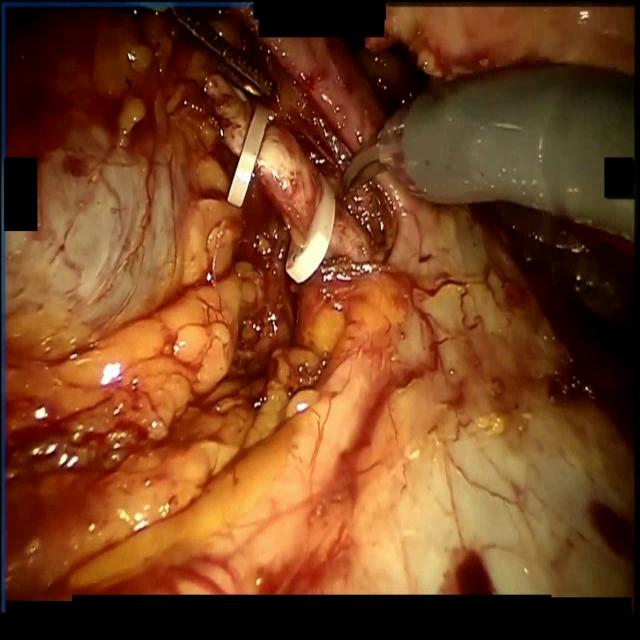surgical-area: (4, 5, 636, 603)
surgical-tool: (339, 66, 634, 244), (169, 7, 276, 98)
